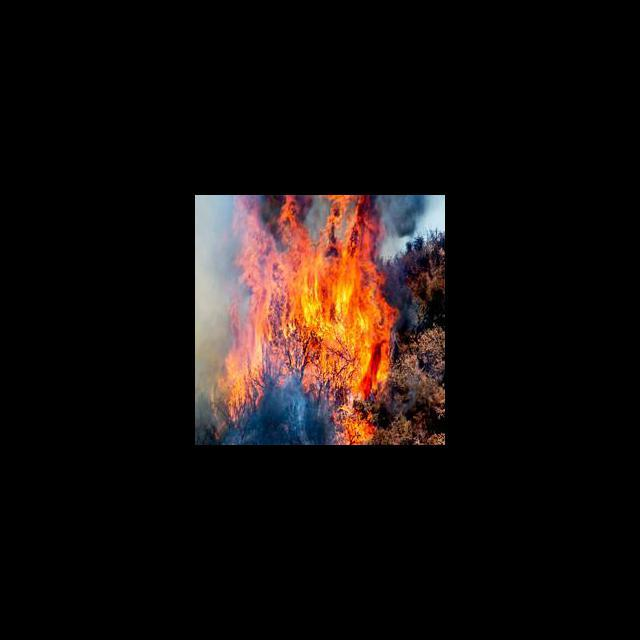Fire: (210, 195, 397, 444)
